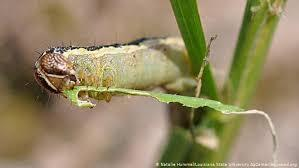fallarmy_worm: (28, 36, 200, 101)
